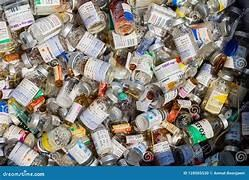Iv_Bottle: (19, 13, 69, 47), (11, 64, 48, 105), (61, 23, 105, 57), (80, 89, 117, 129), (201, 70, 233, 114), (69, 55, 114, 82), (171, 19, 198, 63), (184, 117, 227, 143), (4, 140, 46, 165), (76, 0, 105, 33), (109, 0, 135, 36), (3, 0, 34, 30), (37, 125, 71, 151), (64, 138, 94, 165), (135, 109, 167, 131), (30, 0, 73, 15), (91, 125, 112, 155), (0, 19, 15, 53), (207, 0, 234, 13)
